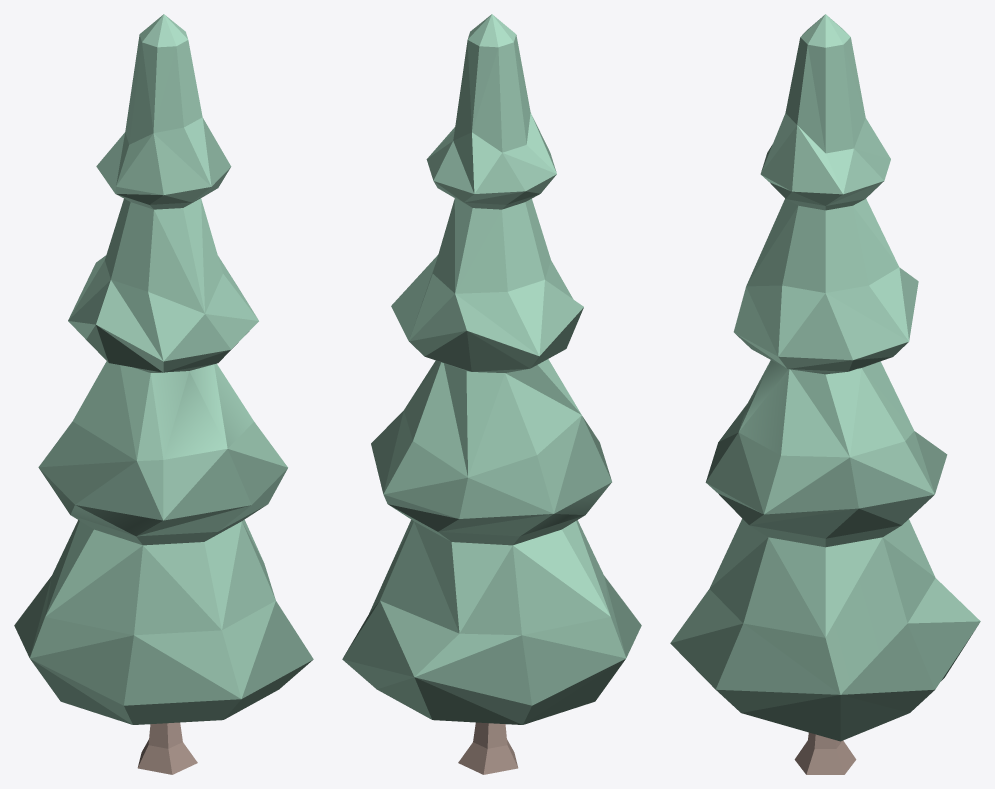
File: TreeLarch.fbx
3 renders of one model, left to right at view 1: azimuth 30°, elevation 25°; view 2: azimuth 150°, elevation 25°; view 3: azimuth 270°, elevation 25°, orthographic.
Visible parts, largest first — view 1: TreeLarch; view 2: TreeLarch; view 3: TreeLarch.
Boxes of the visible parts, x1=… form: TreeLarch: x1=14, y1=14, x2=313, y2=774; TreeLarch: x1=342, y1=14, x2=641, y2=774; TreeLarch: x1=670, y1=14, x2=980, y2=774.
Size of the model in its own units: 4.07 by 11.78 by 4.37.
